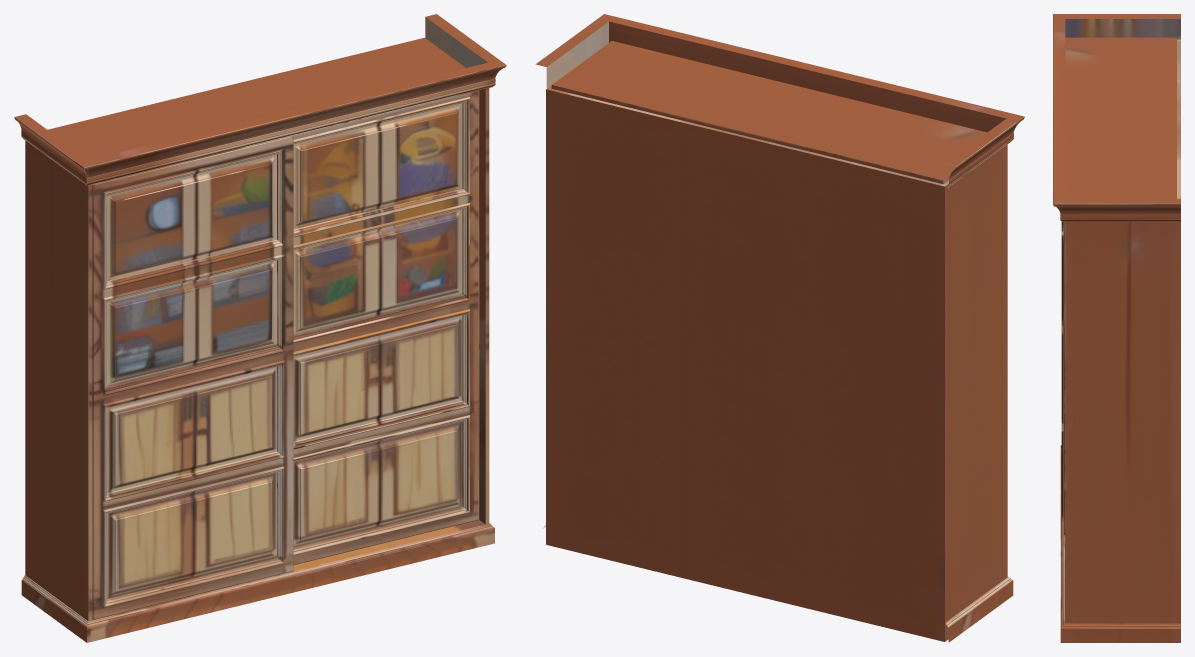
The model's file is edited_mesh.glb.
3 views of the same model, side by side, from view 1: azimuth 30°, elevation 25°; view 2: azimuth 150°, elevation 25°; view 3: azimuth 270°, elevation 25° (orthographic). The views are drawn at different scales.
Visible parts, largest first — view 1: normalized_model.obj; view 2: normalized_model.obj; view 3: normalized_model.obj.
Boxes of the visible parts, <box> form: normalized_model.obj: <box>14,14,506,642</box>; normalized_model.obj: <box>535,14,1024,642</box>; normalized_model.obj: <box>1053,14,1180,642</box>.
Bounding box in the file's own units: 1.26 × 1.37 × 0.359.
1 material, 1 textured.
